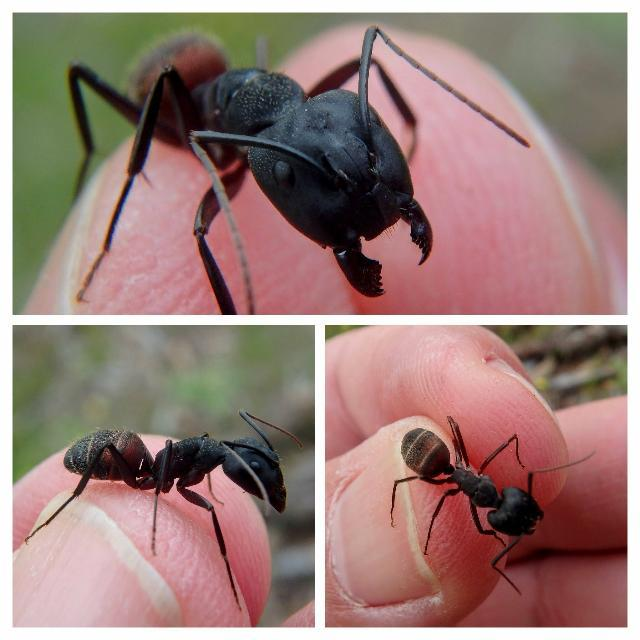Camponotus: (74, 7, 526, 312), (45, 391, 311, 547), (374, 408, 560, 568)
